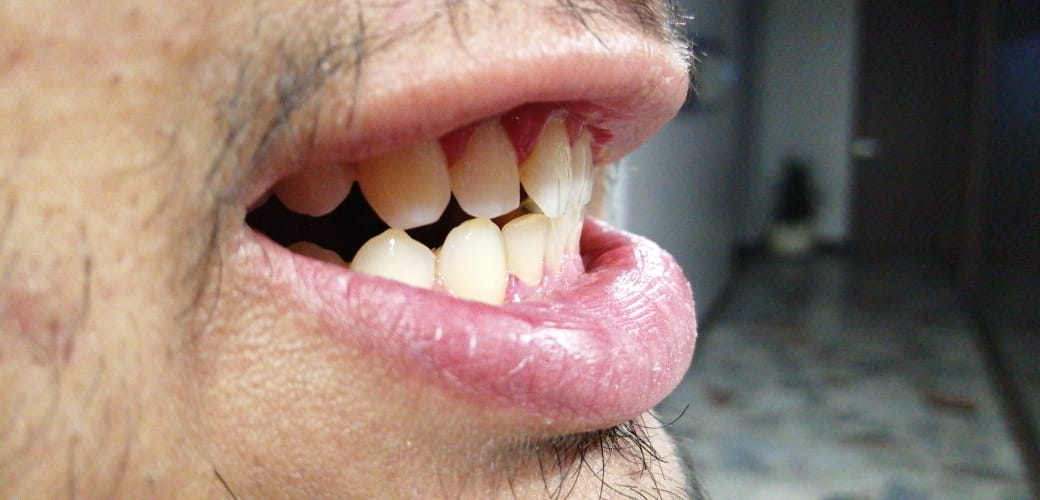boca: (217, 29, 696, 415)
